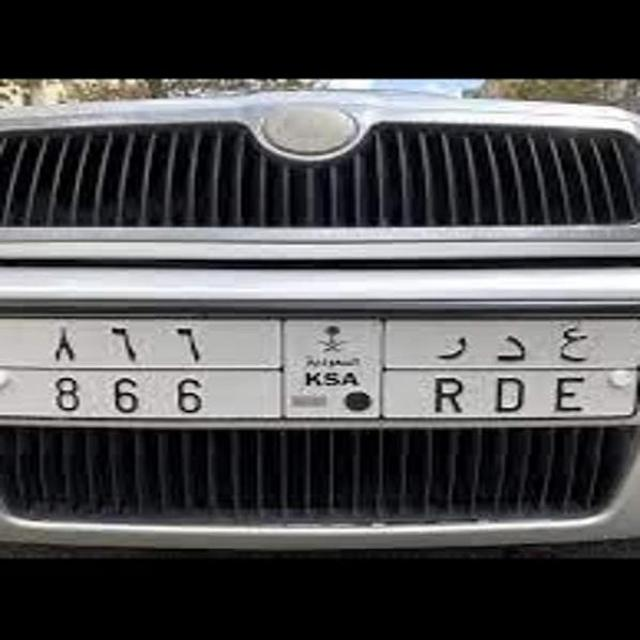license_plate: (35, 321, 594, 423)
